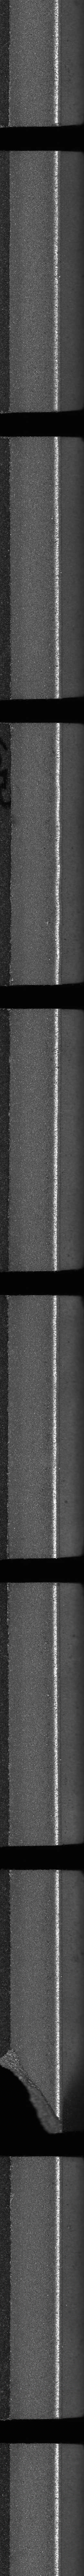Chip: (0, 2044, 64, 2141)
